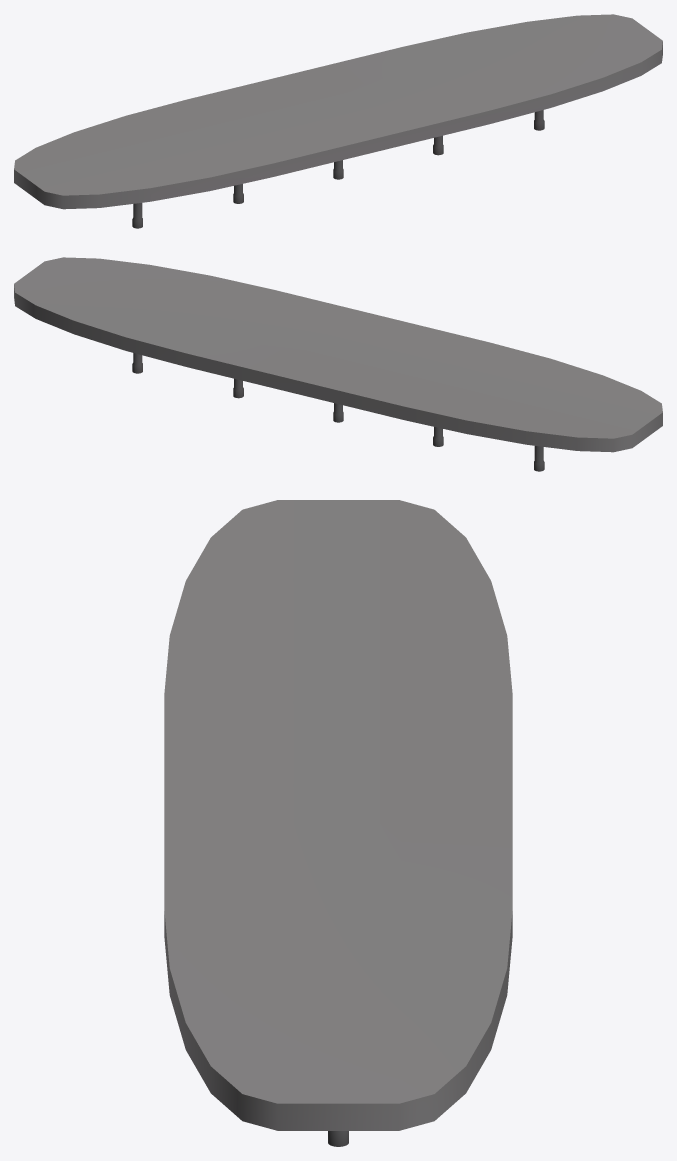
File: tableMeetingRoom.fbx
3 renders of one model, top to bottom at view 1: azimuth 30°, elevation 25°; view 2: azimuth 150°, elevation 25°; view 3: azimuth 270°, elevation 25°, orthographic. The views are drawn at different scales.
Parts seen in each view (by area): view 1: table; view 2: table; view 3: table.
Boxes of the visible parts, x1,y1,x2,y2 form: table: (14,14,662,228); table: (14,257,662,471); table: (164,500,512,1146).
Bounding box in the file's own units: 33451 × 3737 × 8165.
